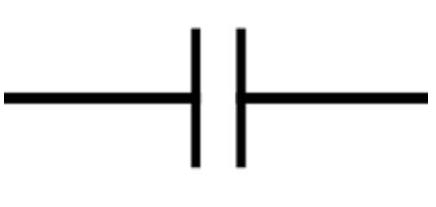Capacitor: (147, 15, 294, 186)
